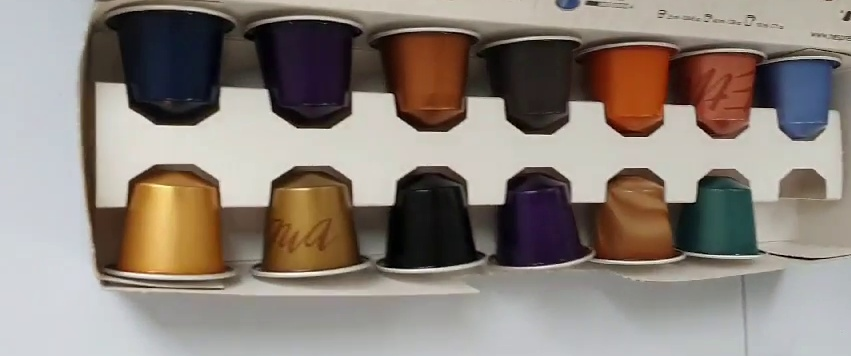capsule_1: (107, 2, 237, 129)
capsule_10: (375, 167, 491, 278)
capsule_11: (482, 170, 593, 268)
capsule_12: (586, 171, 684, 268)
capsule_13: (681, 174, 764, 261)
capsule_2: (237, 14, 362, 122)
capsule_3: (367, 22, 471, 130)
capsule_4: (481, 36, 581, 133)
capsule_5: (579, 37, 674, 135)
capsule_6: (676, 47, 763, 139)
capsule_7: (753, 55, 842, 140)
capsule_8: (100, 165, 234, 288)
capsule_9: (245, 164, 369, 281)
